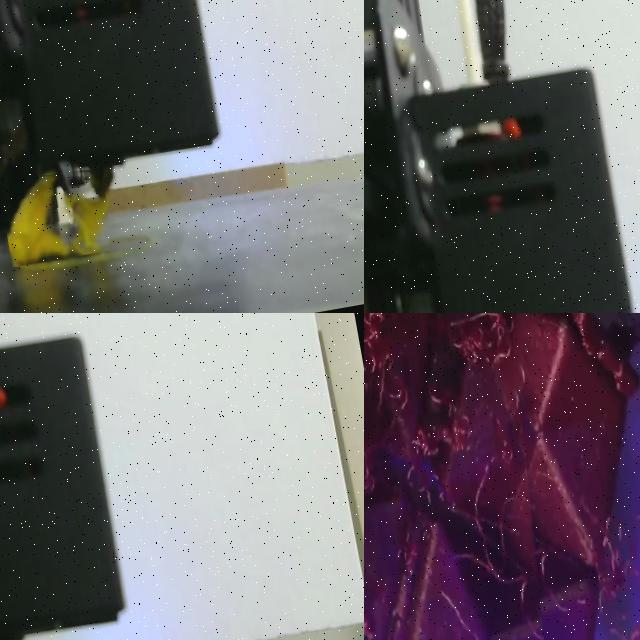spaghetti: (364, 313, 576, 640), (572, 474, 640, 640), (7, 173, 107, 266)
